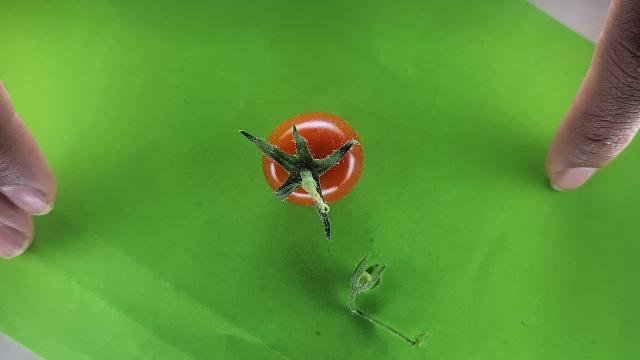Fruit Bud: (358, 263, 385, 290)
Fully Grown: (261, 111, 367, 207)
